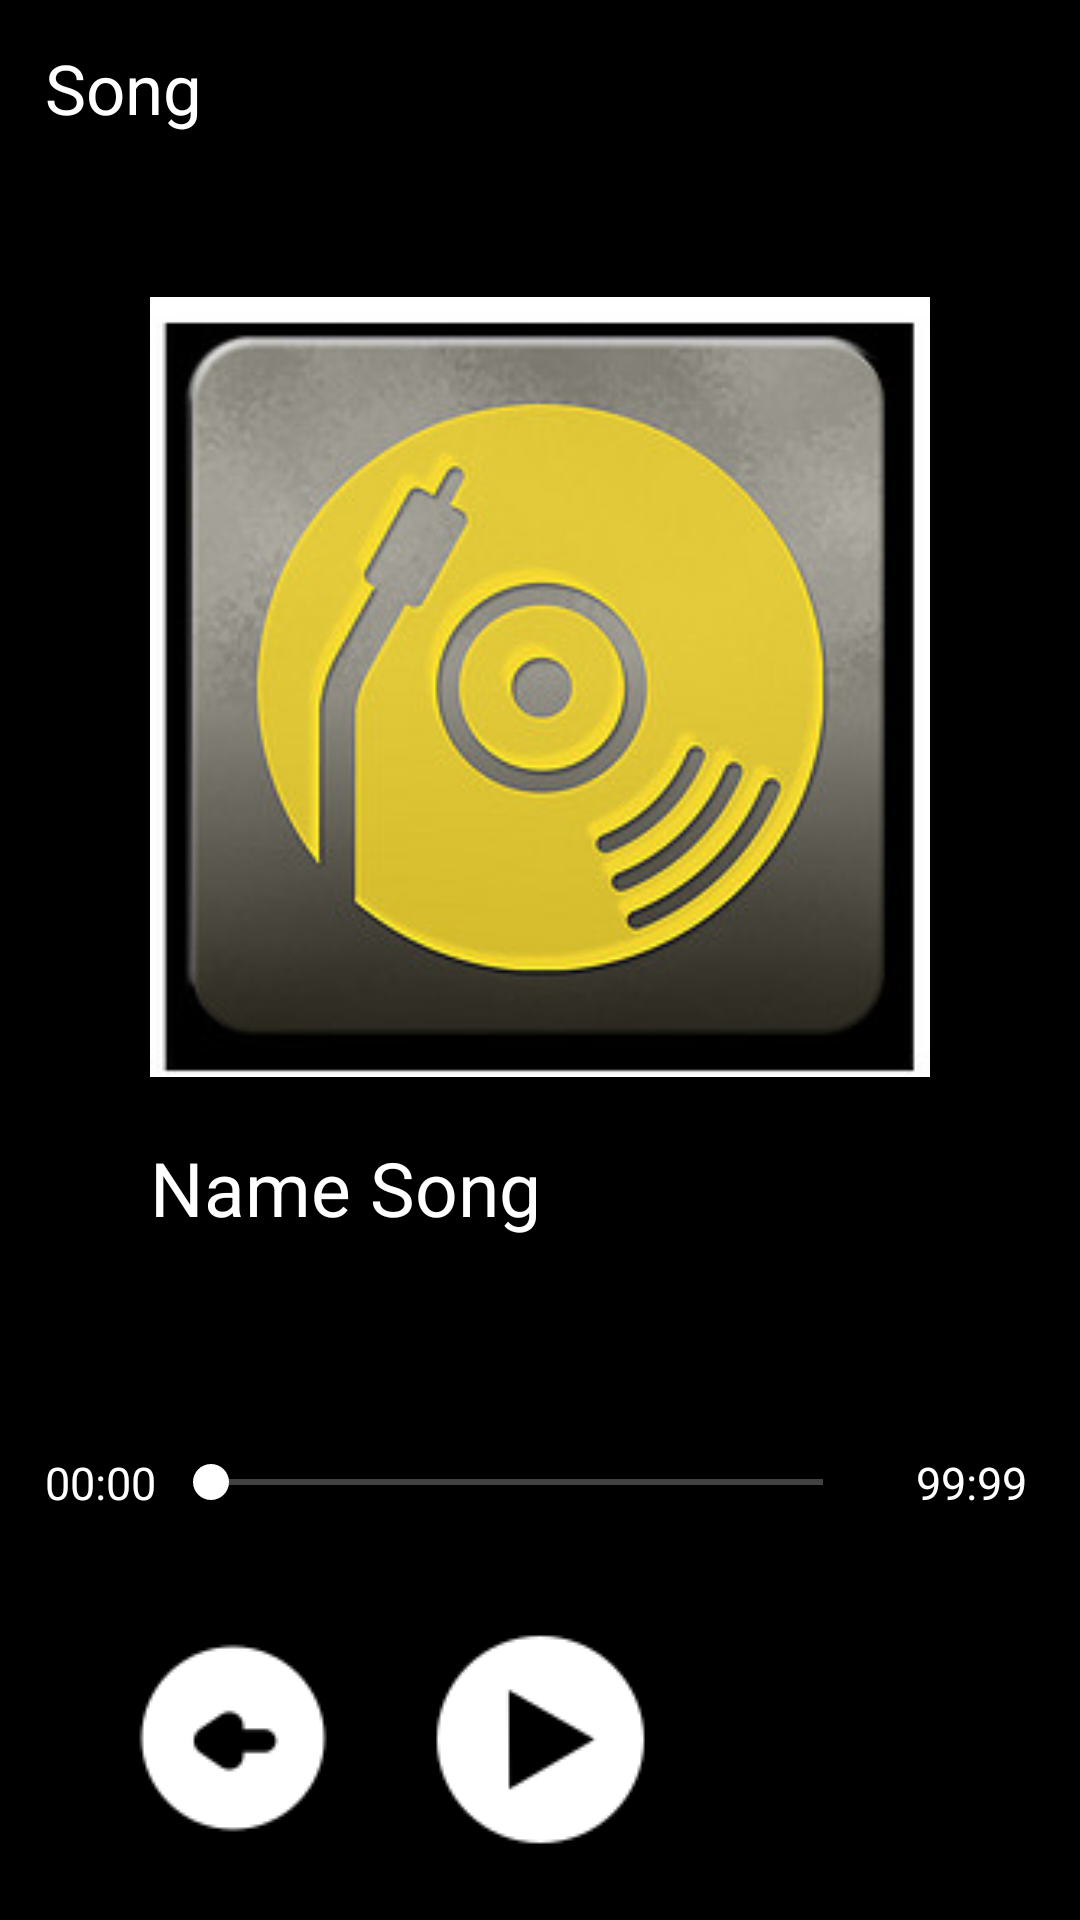

Point at icon controls on the screen. Image size 1080×1920, points as (x,y).
playbutton: (540,1739)
previusbutton: (233,1738)
